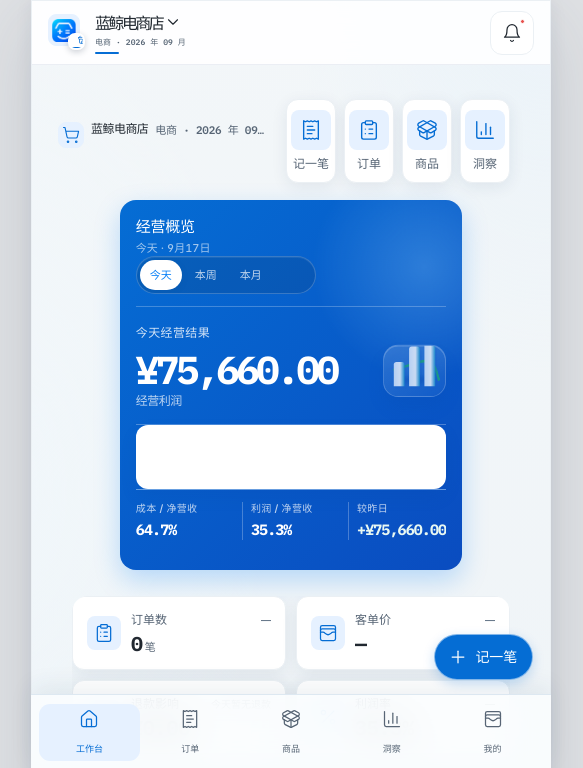
Test: batch-12 DOM 回归：Toast 三态落地 + 调用点不破 › 金额缺失提交出现错误 Toast：app-toast-error + 图标
Click the button with aria-label "新增记一笔" at point(484, 657), box [434,634,533,680]
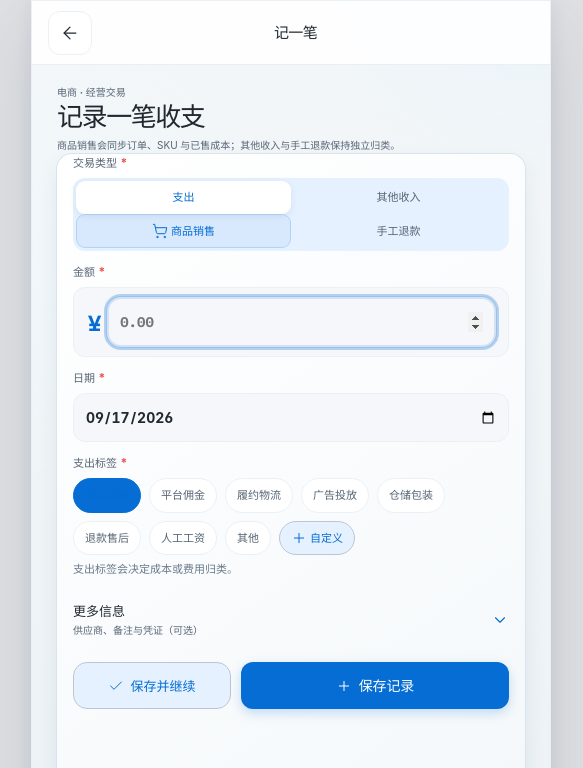
Expected: the heading "记录一笔收支" is shown, [57,101,204,132]
Click the button "保存记录" at point(375, 686), box [241,662,509,710]
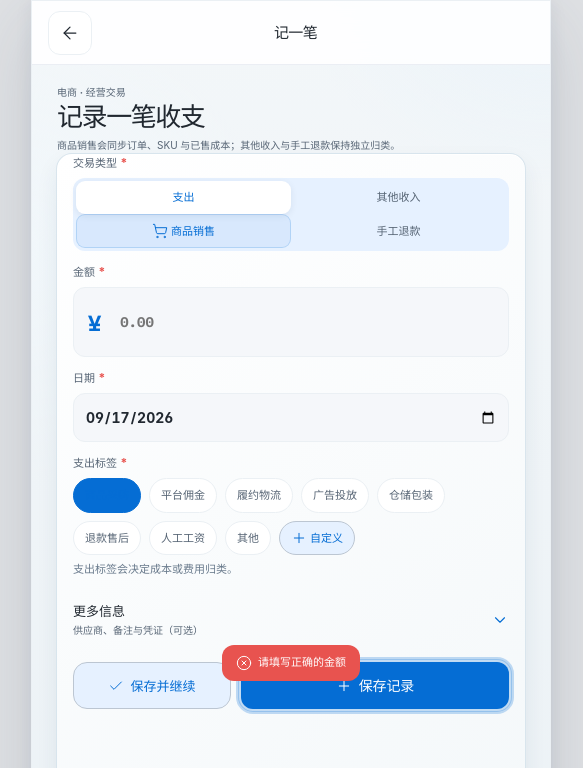
Expected: the text "请填写正确的金额" is shown, [222,645,360,681]
